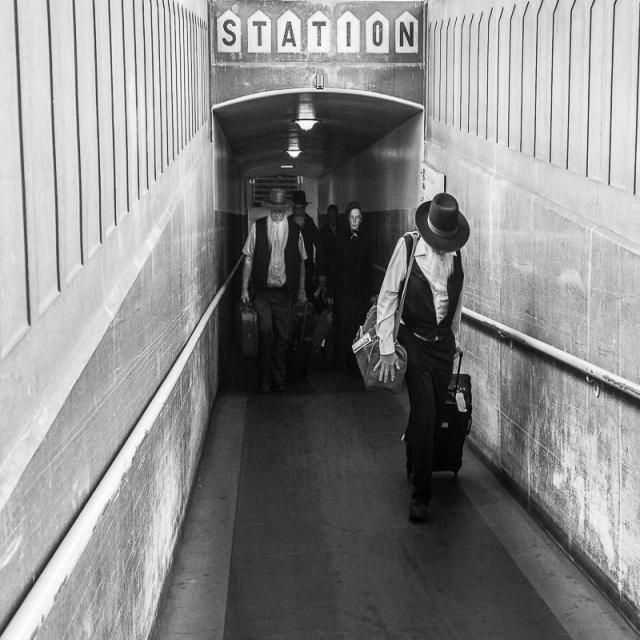body: (349, 191, 476, 528), (240, 188, 308, 394), (286, 190, 328, 354), (325, 201, 367, 342)
